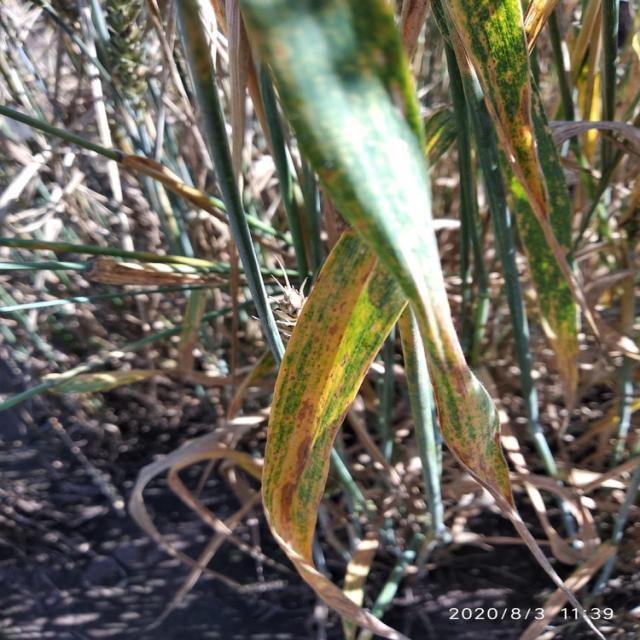wheat-septoria: (260, 232, 410, 640)
